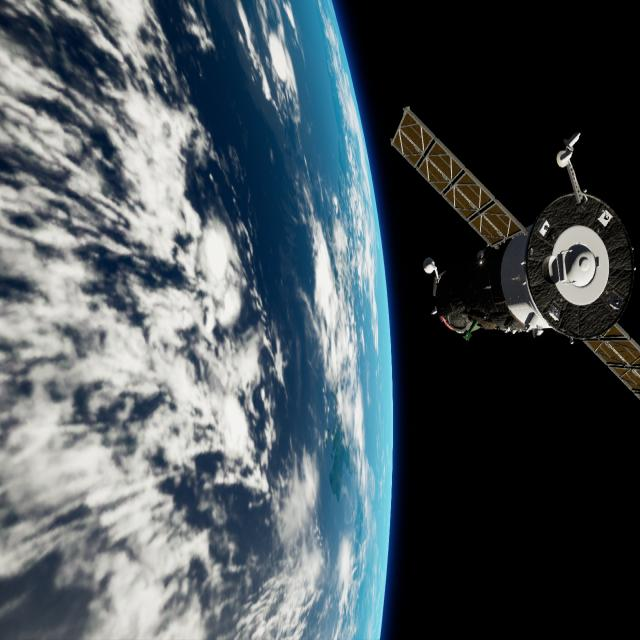Satellites revolving around earth: (1, 1, 394, 638), (389, 104, 635, 347)
